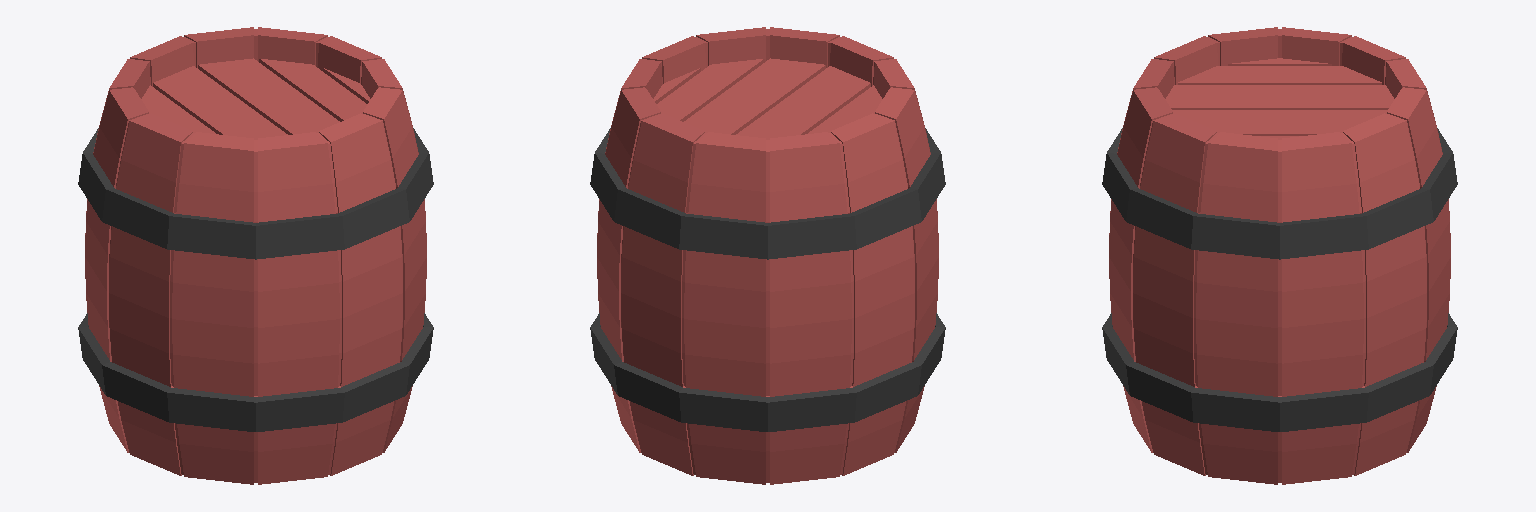
3 views of the same model, side by side, from view 1: azimuth 30°, elevation 25°; view 2: azimuth 150°, elevation 25°; view 3: azimuth 270°, elevation 25° (orthographic).
Visible parts, largest first — view 1: 円柱.001; view 2: 円柱.001; view 3: 円柱.001.
Boxes of the visible parts, <box> form: 円柱.001: <box>78,27,433,484</box>; 円柱.001: <box>590,27,945,484</box>; 円柱.001: <box>1102,27,1457,484</box>.
Size of the model in its own units: 2.41 by 2.53 by 2.41.
Materials: 1 (1 with a texture image).